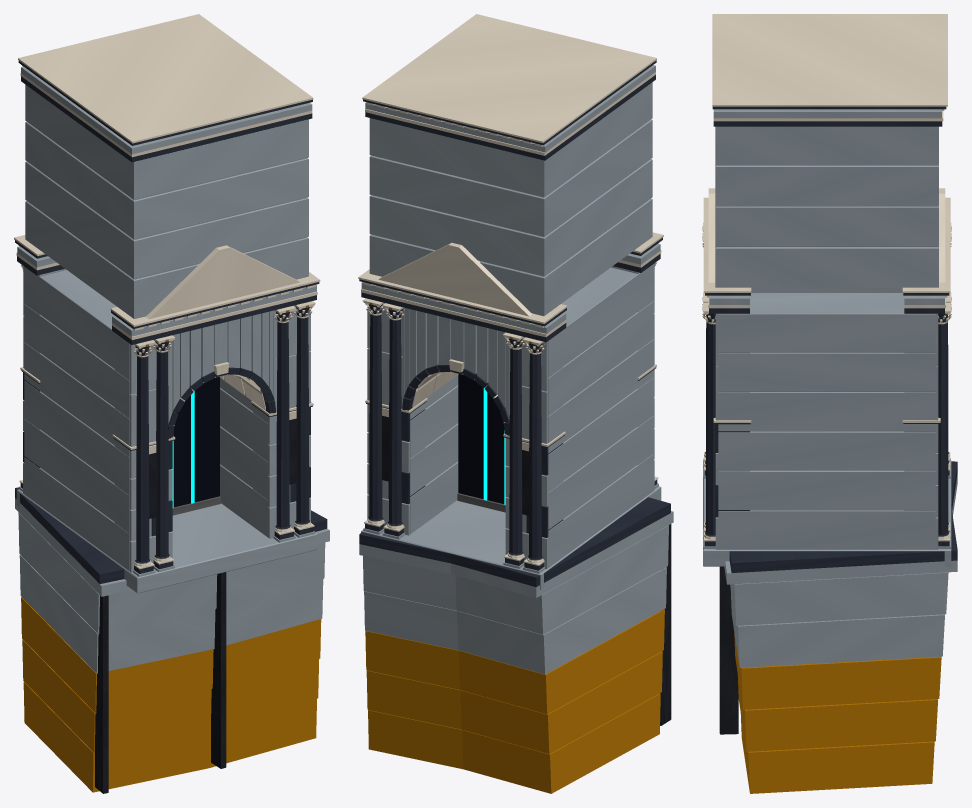
The model's file is UMOD_04_Cardinal_Triumphal_Gate_Pavilion.glb.
The picture shows the model from 3 angles, left to right: view 1: azimuth 30°, elevation 25°; view 2: azimuth 150°, elevation 25°; view 3: azimuth 270°, elevation 25°; orthographic projection. The views are drawn at different scales.
Parts seen in each view (by area): view 1: UMOD_04_Cardinal_Triumphal_Gate_Pavilion; view 2: UMOD_04_Cardinal_Triumphal_Gate_Pavilion; view 3: UMOD_04_Cardinal_Triumphal_Gate_Pavilion.
Boxes of the visible parts, <box> form: UMOD_04_Cardinal_Triumphal_Gate_Pavilion: <box>14,14,329,793</box>; UMOD_04_Cardinal_Triumphal_Gate_Pavilion: <box>358,14,673,793</box>; UMOD_04_Cardinal_Triumphal_Gate_Pavilion: <box>702,14,957,793</box>.
Size of the model in its own units: 34.98 by 96.44 by 32.93.
10 materials, 10 textured.
